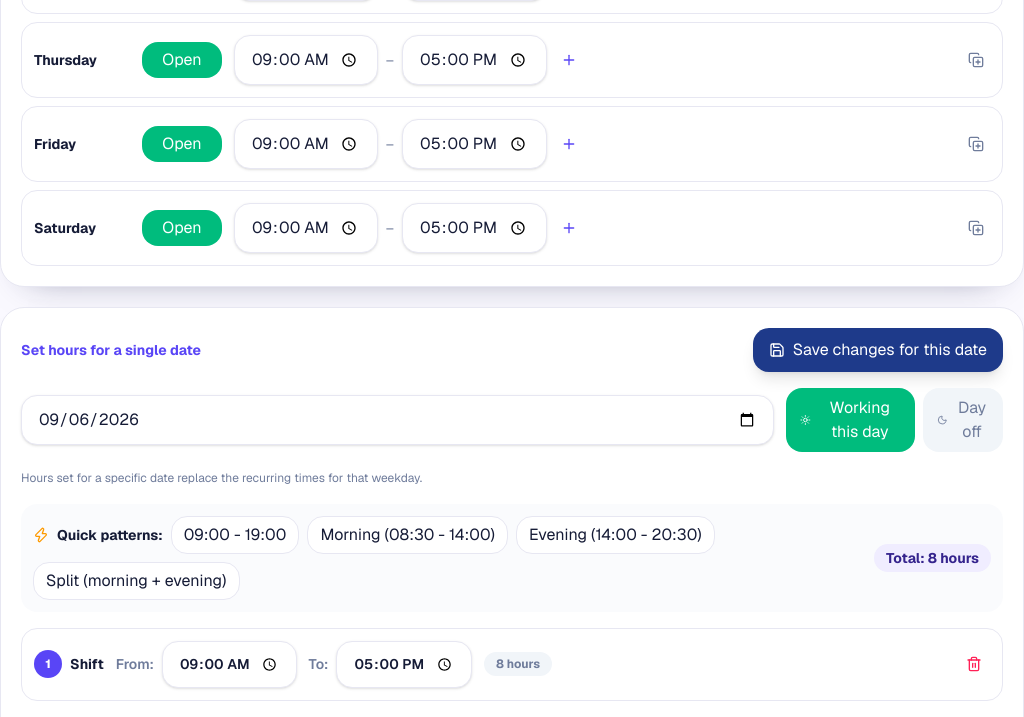
business hours & shifts screen › shows the field’s own message, not the generic “correct the highlighted fields”
(page scrolled)
Click the button "Save changes for this date": click(878, 350) [753,328,1003,372]
(page scrolled)
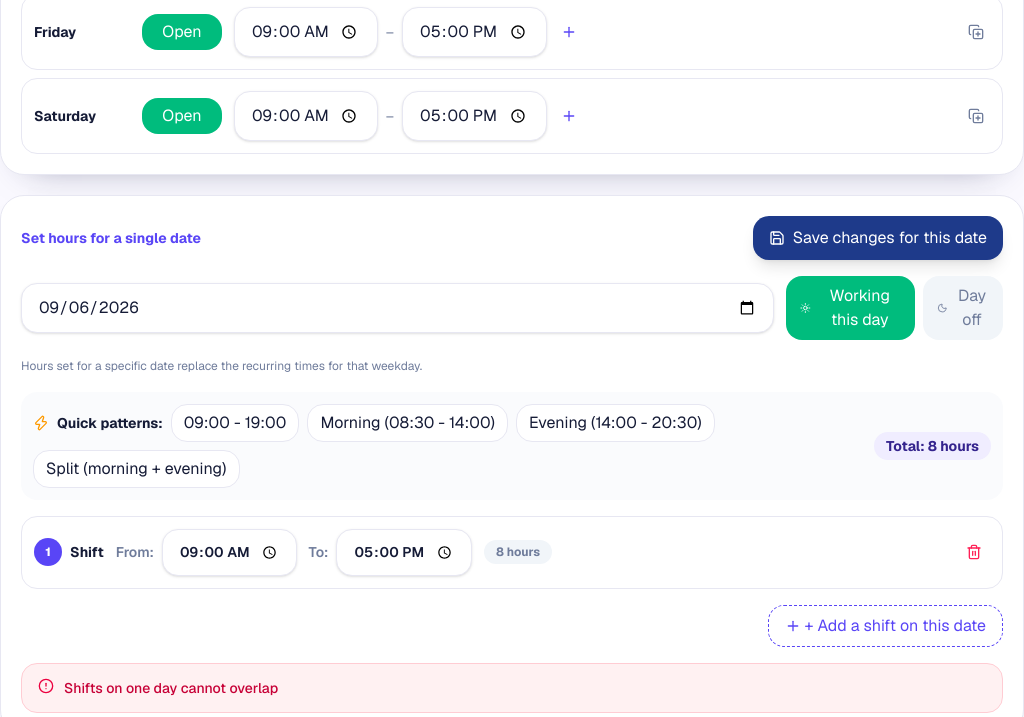
Expected: the message reads "Shifts on one day cannot overlap", [64,679,278,697]
